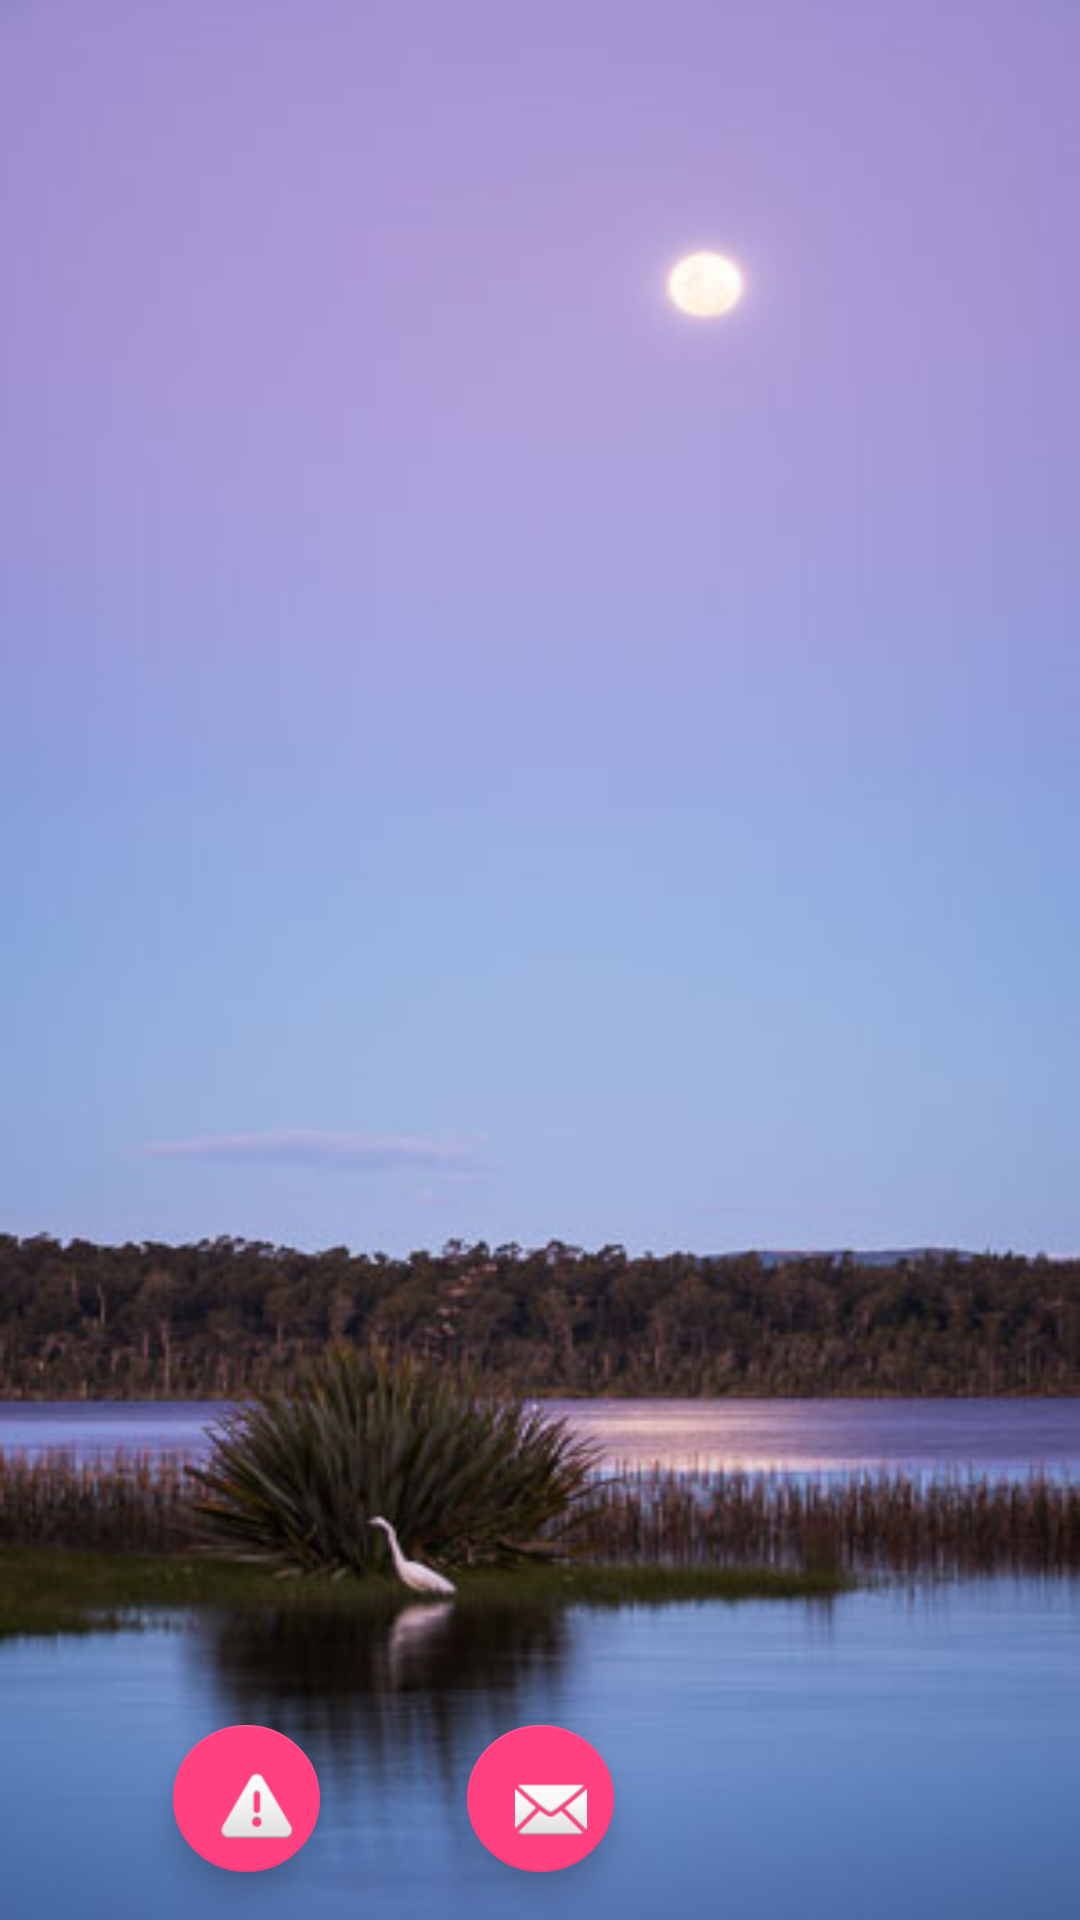

Screen size 1080 x 1920. Icon name, then its center in pixels as point (x, y):
alert: point (246, 1798)
email: point (540, 1798)
